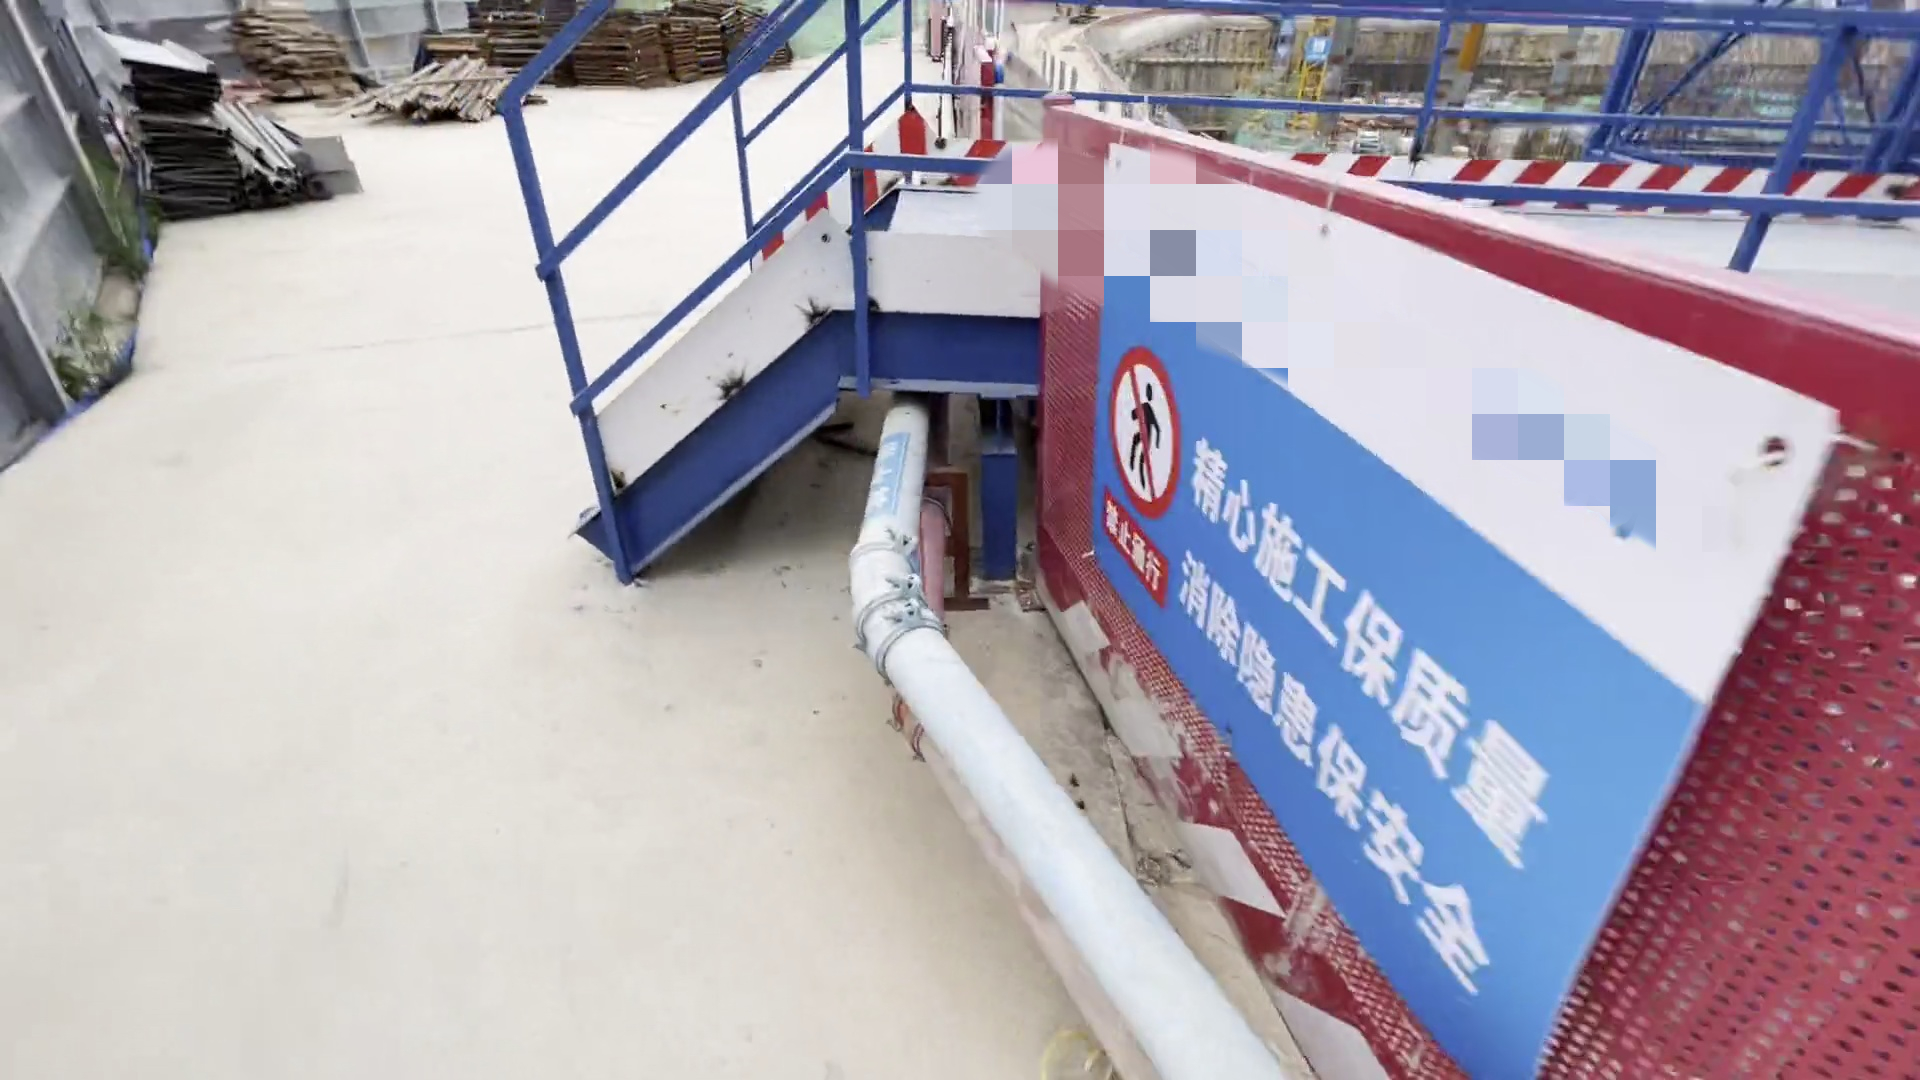fence: (953, 30, 1920, 1027)
slogan: (1095, 137, 1625, 985)
wood: (378, 69, 533, 123)
